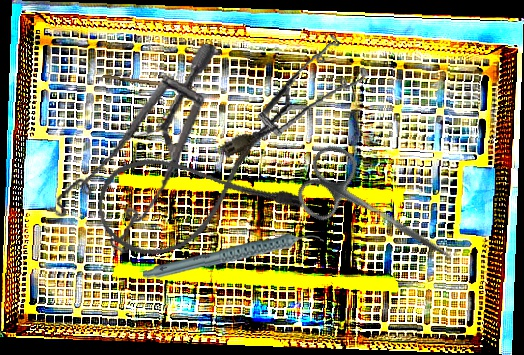Cannula: (87, 120, 308, 267)
Handpiece: (142, 230, 325, 284)
Iris Scissors: (288, 138, 472, 288)
Speculum: (45, 29, 218, 261), (231, 30, 377, 151)
Surgical Spoon: (102, 74, 224, 94)
